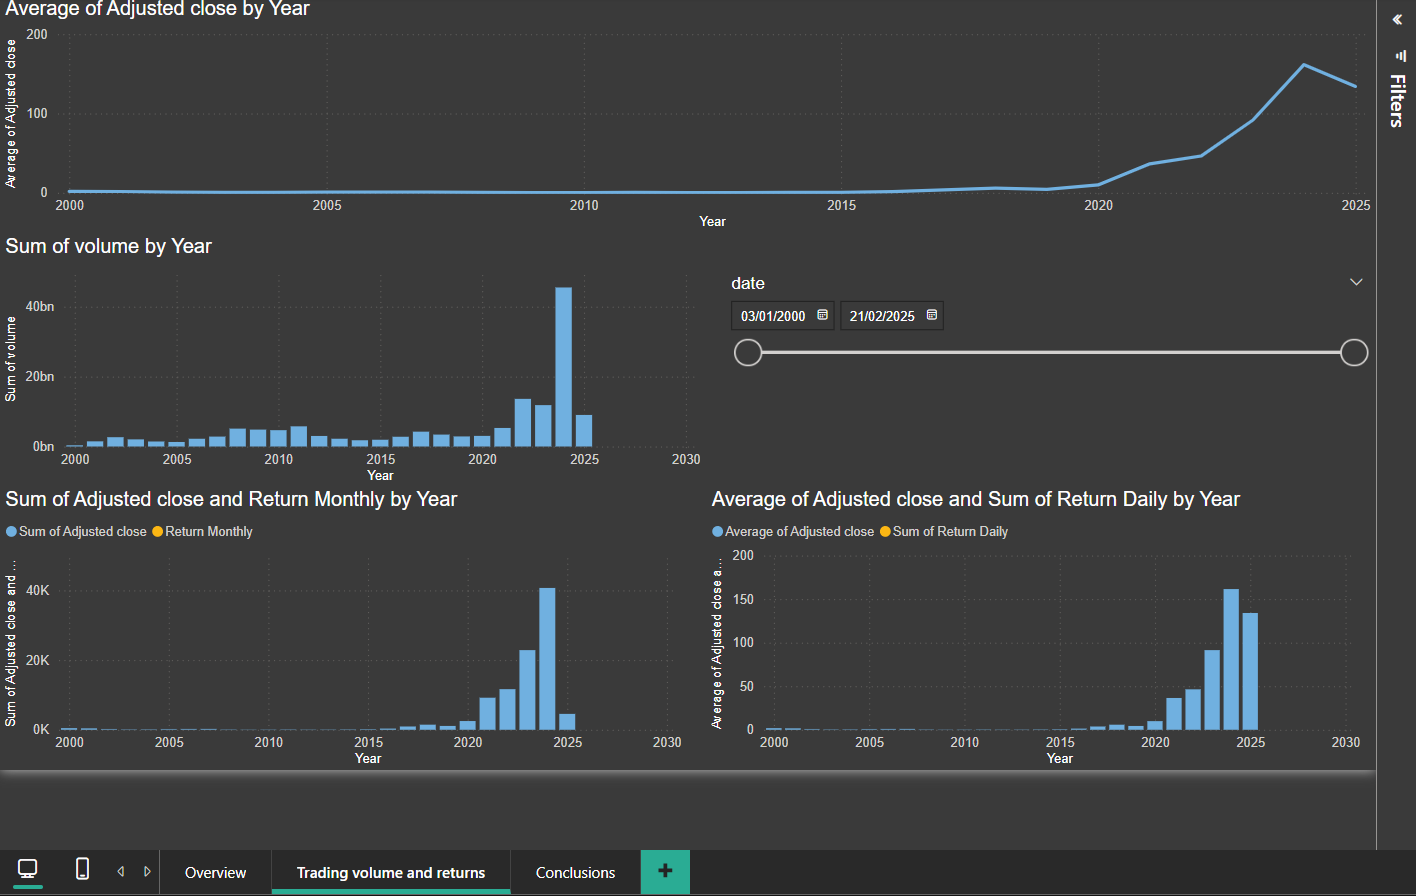

What the dashboard file says about the page in this screenshot:
{"tool":"powerbi","page":{"name":"Trading volume and returns ","canvas":[1280,720],"ordinal":1},"visuals":[{"type":"columnChart","fields":{"Category":["nvidia_stock_data_clean.date.Variation.Date Hierarchy.Year","nvidia_stock_data_clean.date.Variation.Date Hierarchy.Quarter","nvidia_stock_data_clean.date.Variation.Date Hierarchy.Month","nvidia_stock_data_clean.date.Variation.Date Hierarchy.Day"],"Y":["Avg(nvidia_stock_data_clean.Adjusted close)","Sum(nvidia_stock_data_clean.Return Daily)"]},"box":[657.3,456.9,613.4,263.5],"z":0},{"type":"columnChart","fields":{"Category":["nvidia_stock_data_clean.date.Variation.Date Hierarchy.Year","nvidia_stock_data_clean.date.Variation.Date Hierarchy.Quarter","nvidia_stock_data_clean.date.Variation.Date Hierarchy.Month","nvidia_stock_data_clean.date.Variation.Date Hierarchy.Day"],"Y":["Sum(nvidia_stock_data_clean.Adjusted close)","nvidia_stock_data_clean.Return Monthly"]},"box":[0,456.9,639.5,263.5],"z":1000},{"type":"slicer","fields":{"Values":["nvidia_stock_data_clean.date"]},"box":[666.9,252.5,613.4,171.5],"z":2000},{"type":"columnChart","fields":{"Category":["nvidia_stock_data_clean.date.Variation.Date Hierarchy.Year","nvidia_stock_data_clean.date.Variation.Date Hierarchy.Quarter","nvidia_stock_data_clean.date.Variation.Date Hierarchy.Month","nvidia_stock_data_clean.date.Variation.Date Hierarchy.Day"],"Y":["Sum(nvidia_stock_data_clean.volume)"]},"box":[0,220.9,657.3,236],"z":3000},{"type":"lineChart","fields":{"Category":["nvidia_stock_data_clean.date.Variation.Date Hierarchy.Year","nvidia_stock_data_clean.date.Variation.Date Hierarchy.Quarter","nvidia_stock_data_clean.date.Variation.Date Hierarchy.Month","nvidia_stock_data_clean.date.Variation.Date Hierarchy.Day"],"Y":["Avg(nvidia_stock_data_clean.Adjusted close)"]},"box":[0,0,1280.2,220.9],"z":4000}]}

Visuals, with their boxes on the page's 1280x720 design canvas (x1, y1, x2, y2). These are canvas units, not pixel positions in the 1416x896 screenshot, which may show the page scaled, cropped or inside an application window:
columnChart - nvidia_stock_data_clean.date.Variation.Date Hierarchy.Year x nvidia_stock_data_clean.date.Variation.Date Hierarchy.Quarter: 657, 457, 1271, 720
columnChart - nvidia_stock_data_clean.date.Variation.Date Hierarchy.Year x nvidia_stock_data_clean.date.Variation.Date Hierarchy.Quarter: 0, 457, 640, 720
slicer - nvidia_stock_data_clean.date: 667, 252, 1280, 424
columnChart - nvidia_stock_data_clean.date.Variation.Date Hierarchy.Year x nvidia_stock_data_clean.date.Variation.Date Hierarchy.Quarter: 0, 221, 657, 457
lineChart - nvidia_stock_data_clean.date.Variation.Date Hierarchy.Year x nvidia_stock_data_clean.date.Variation.Date Hierarchy.Quarter: 0, 0, 1280, 221
